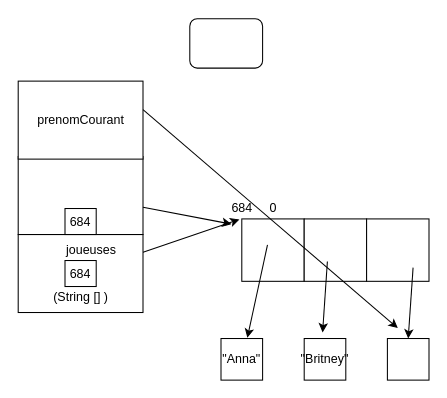
The diagram is 447 pixels wide and 398 high, and some of its shapes have lost their labels. Here are the shapes that lost their labels. From the top down, the box of each, then its label:
(189, 18, 263, 68): Null
(17, 155, 143, 235): pTabJoueuses
(386, 337, 429, 380): "Carol"
